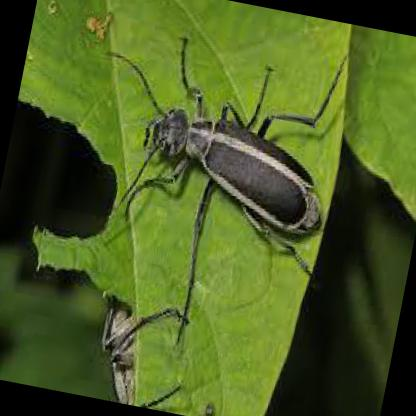blister beetle: (143, 42, 325, 262)
